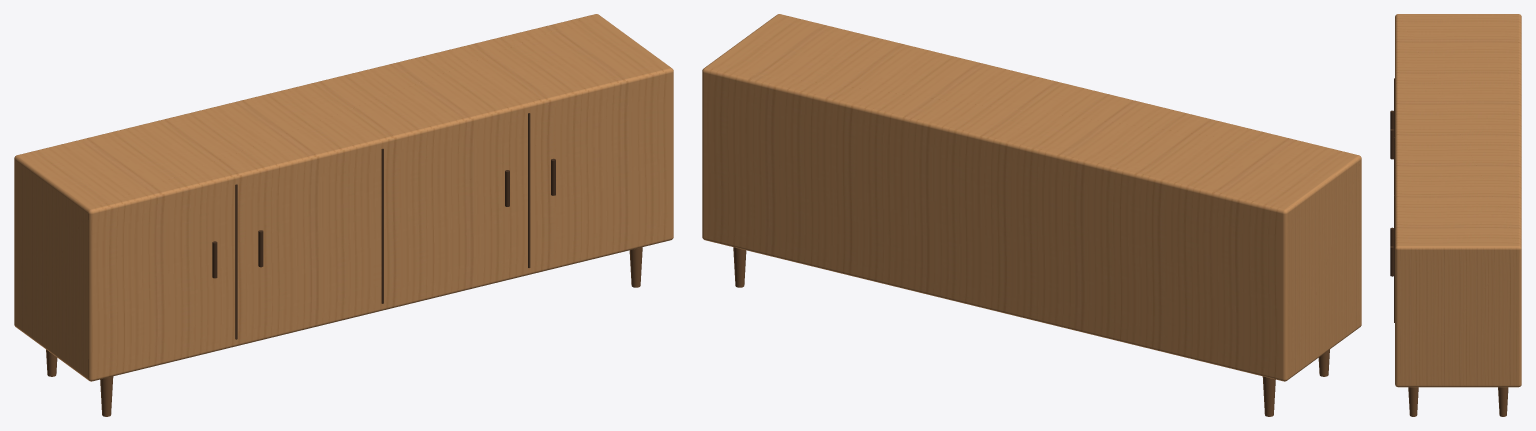
File: sideboard-oak.glb
3 renders of one model, left to right at view 1: azimuth 30°, elevation 25°; view 2: azimuth 150°, elevation 25°; view 3: azimuth 270°, elevation 25°, orthographic. The views are drawn at different scales.
Visible parts, largest first — view 1: sideboard-oak; view 2: sideboard-oak; view 3: sideboard-oak.
Boxes of the visible parts, x1,y1,x2,y2 form: sideboard-oak: (14,14,673,416); sideboard-oak: (702,14,1361,416); sideboard-oak: (1390,14,1521,416).
Bounding box in the file's own units: 2.1 × 0.7499 × 0.4978.
3 materials, 1 textured.
